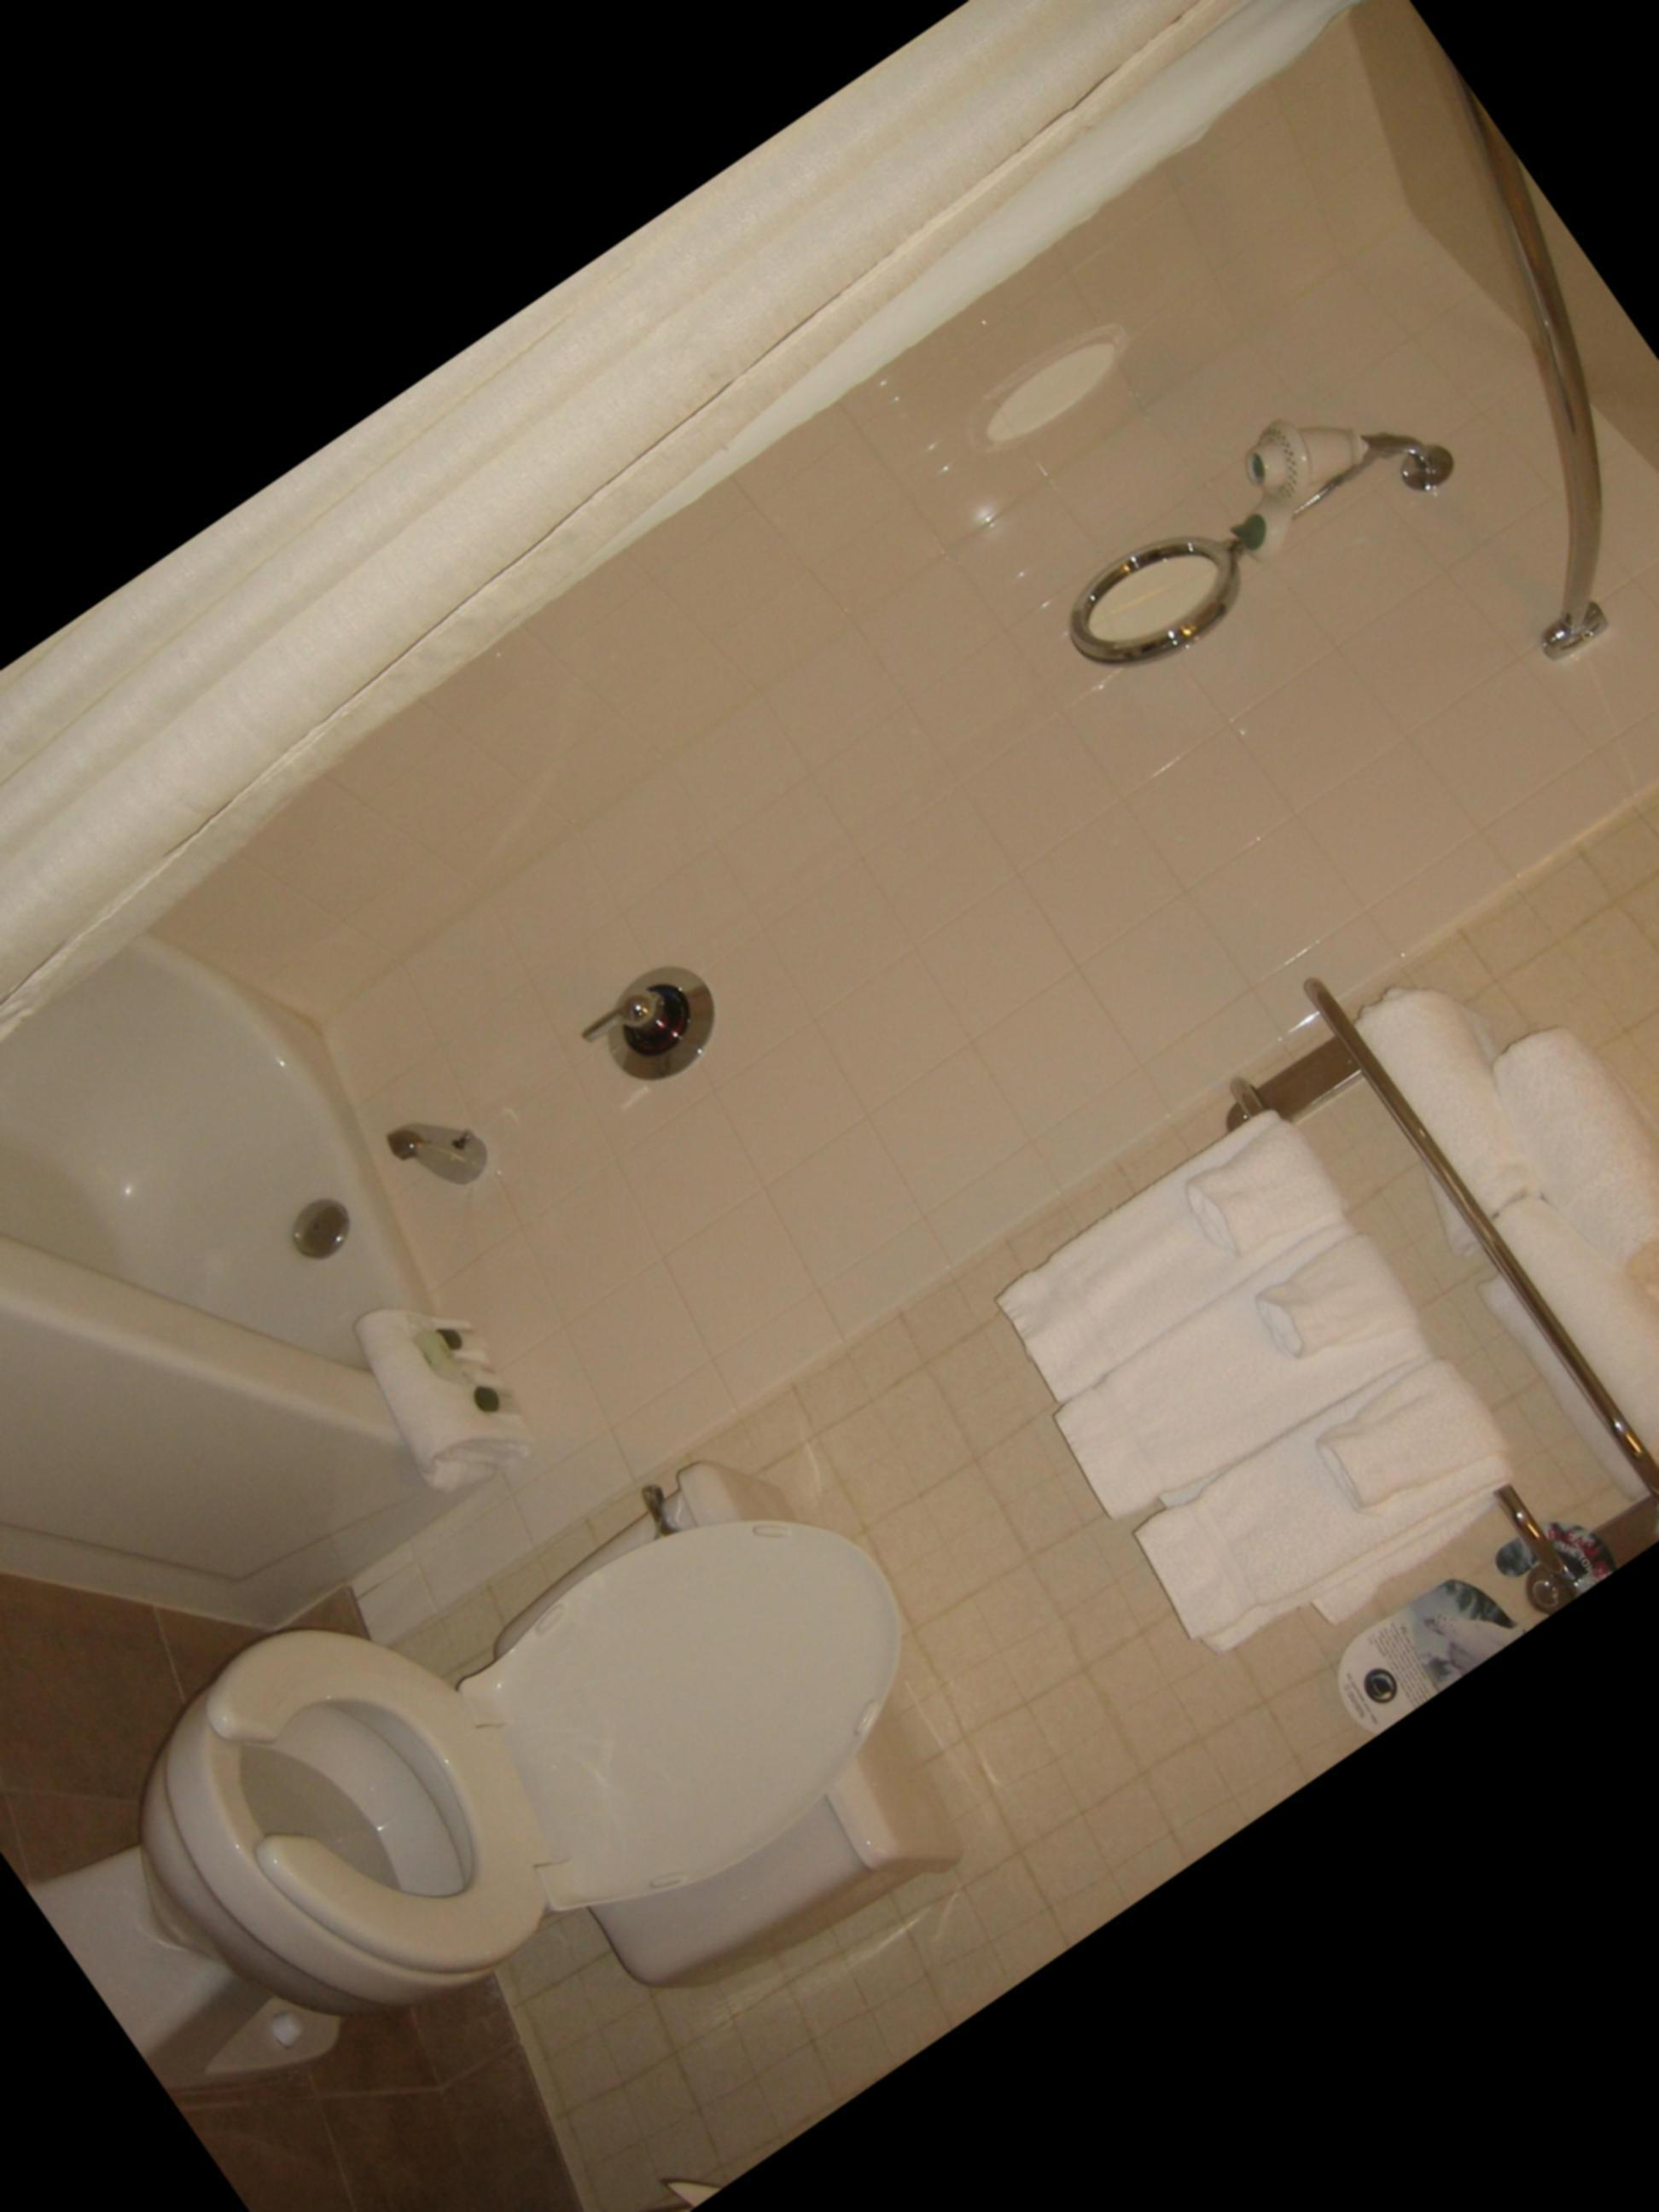Ducha: (0, 0, 1659, 1860)
Sanitario: (24, 1353, 1070, 2212)
